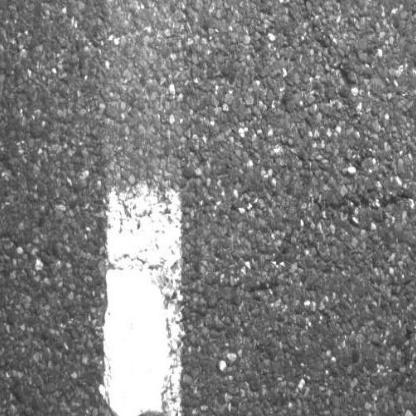Cracks: (287, 0, 359, 100), (305, 164, 416, 219)
